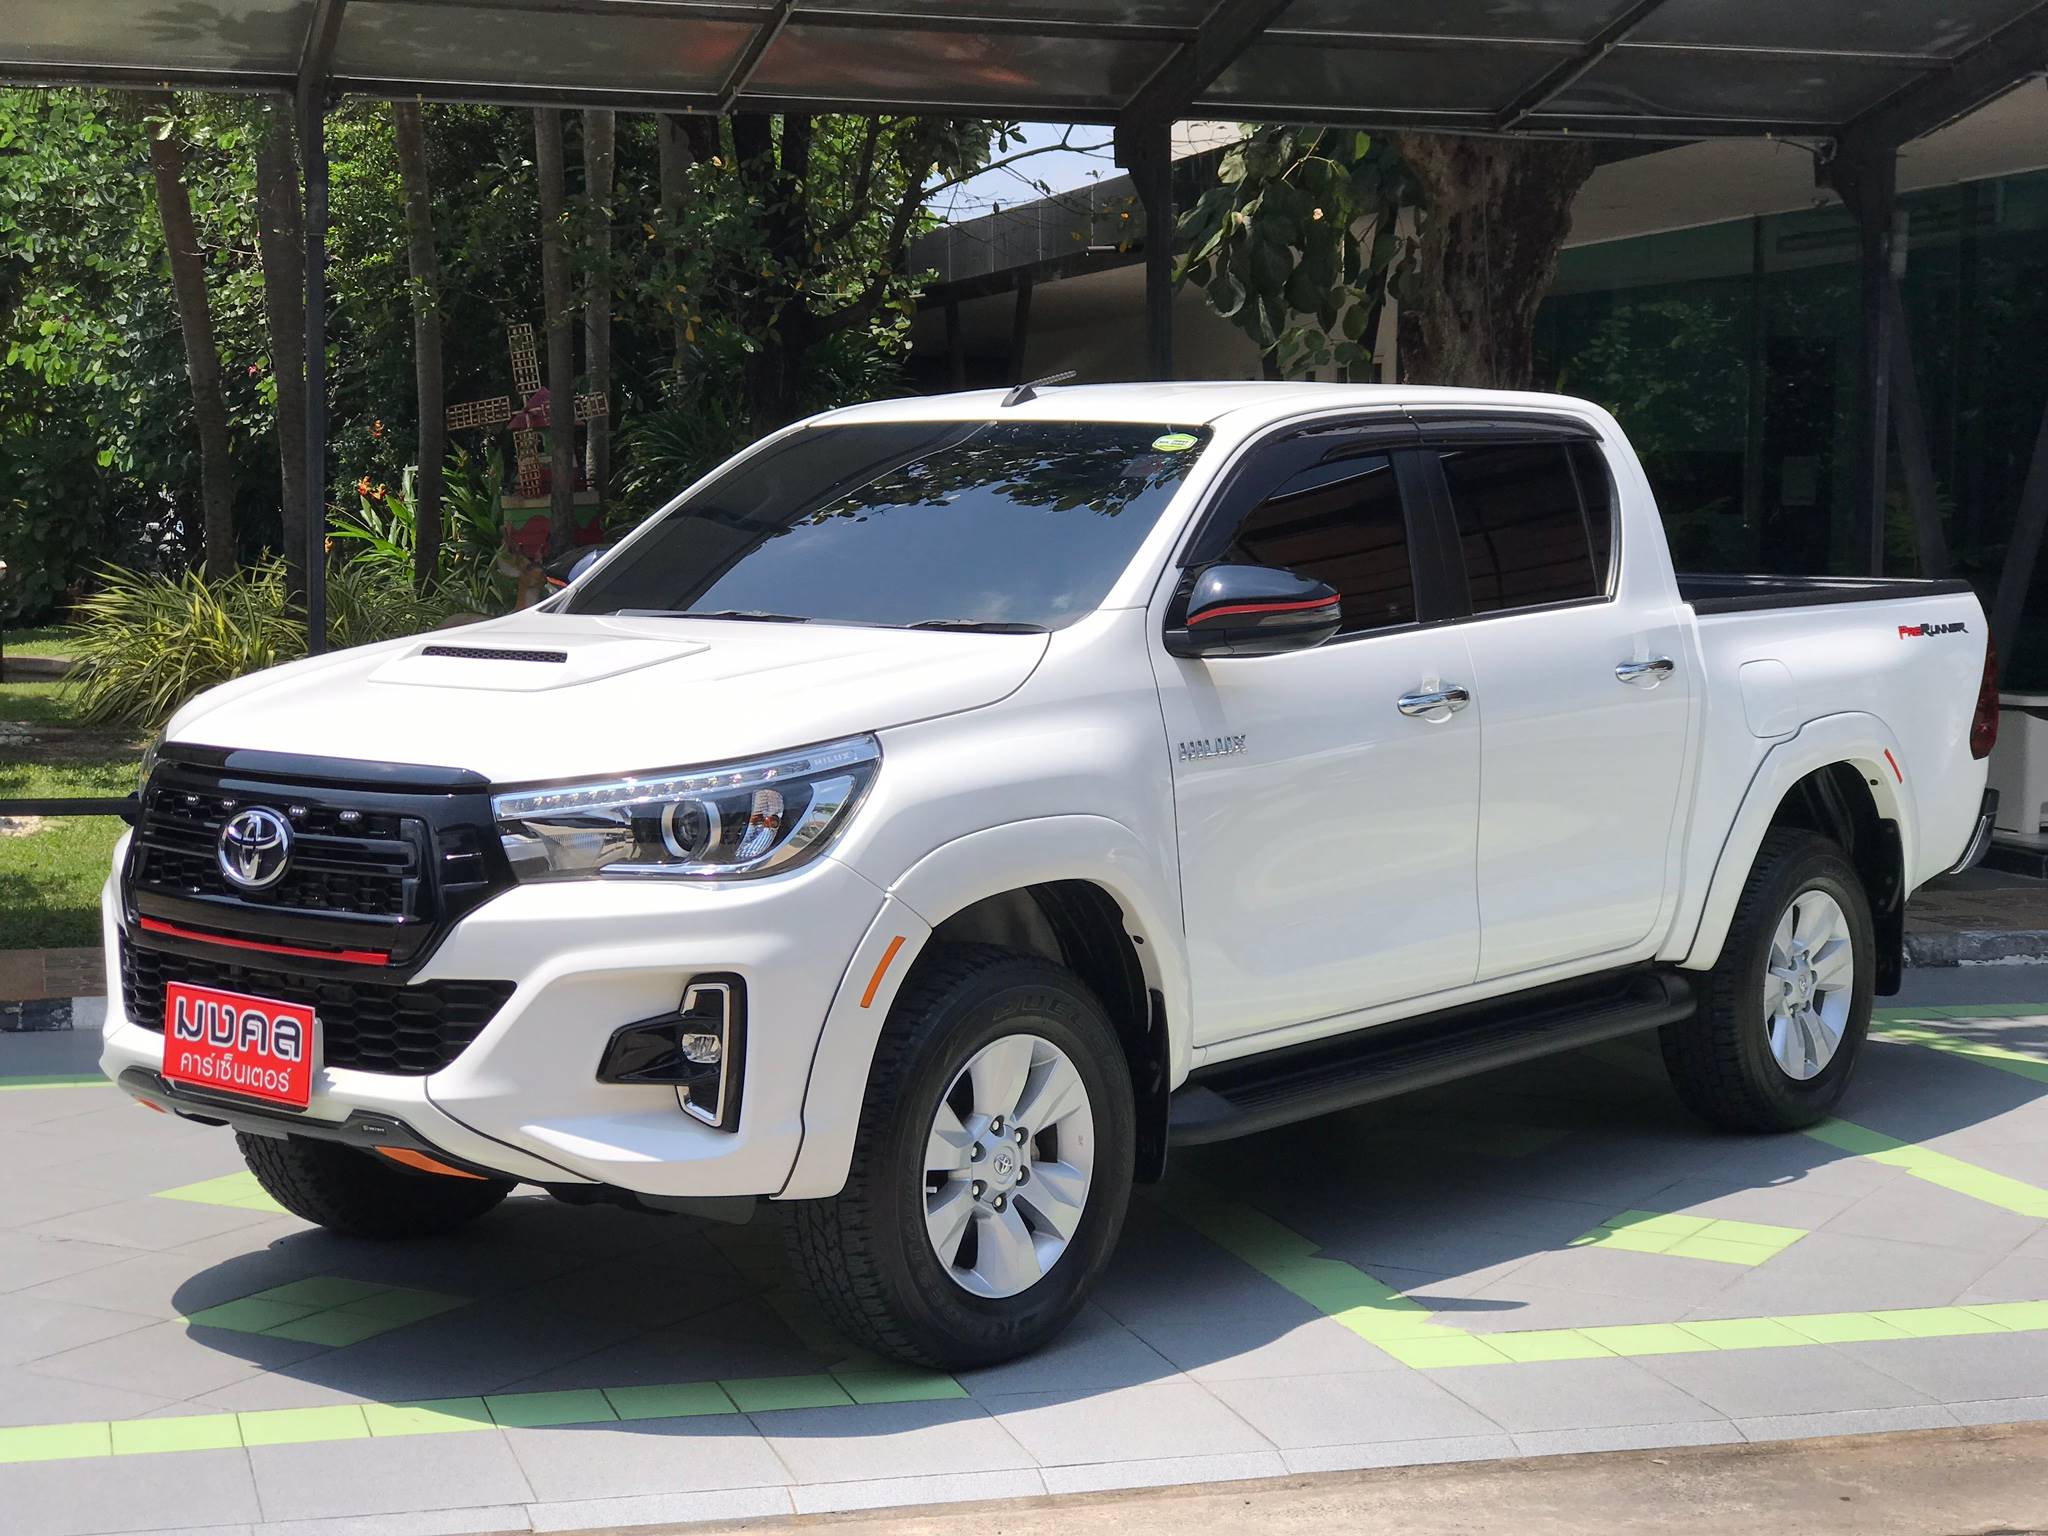pickup: (89, 365, 2009, 1386)
